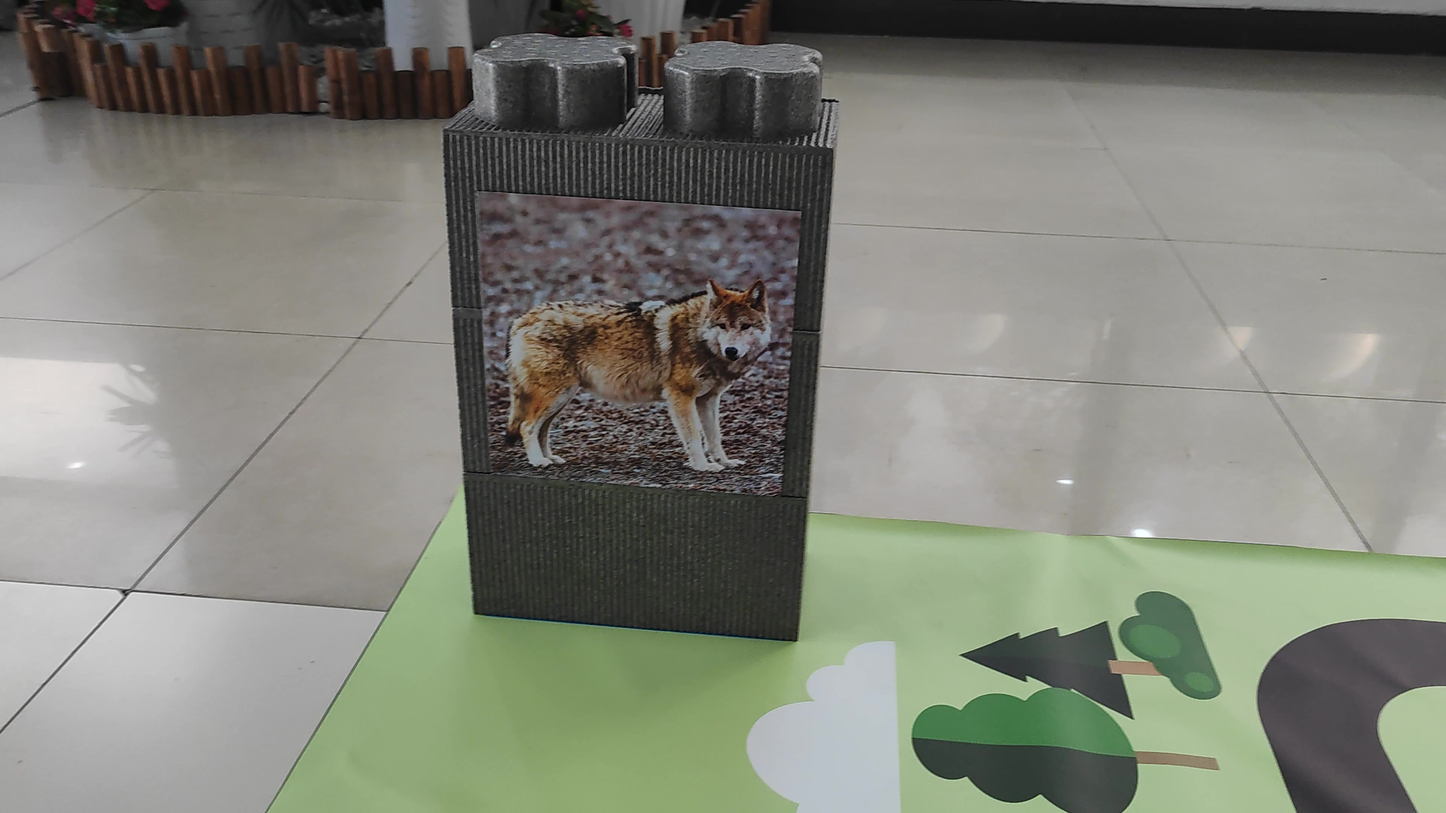wolf: (478, 245, 783, 497)
